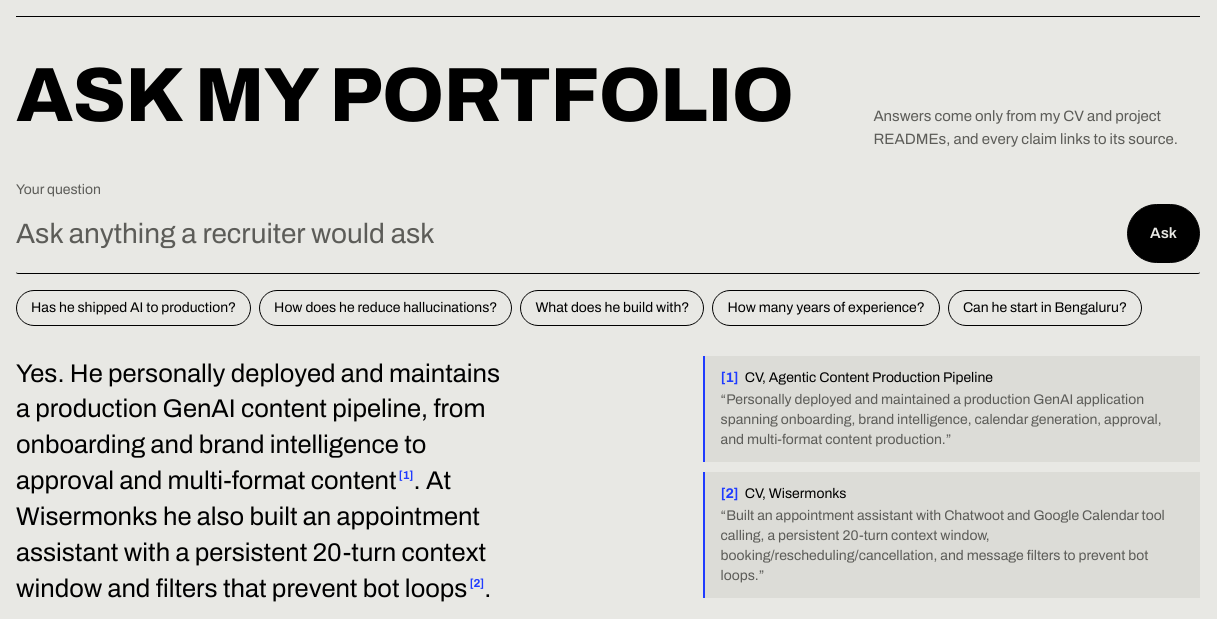
it: Ask my portfolio › types the answer and reveals sources only when typing finishes
Type "Where is he based?" into the field labelled "Your question".
click(567, 233); type("Where is he based?")  # box x1=16 y1=204 x2=1117 y2=263
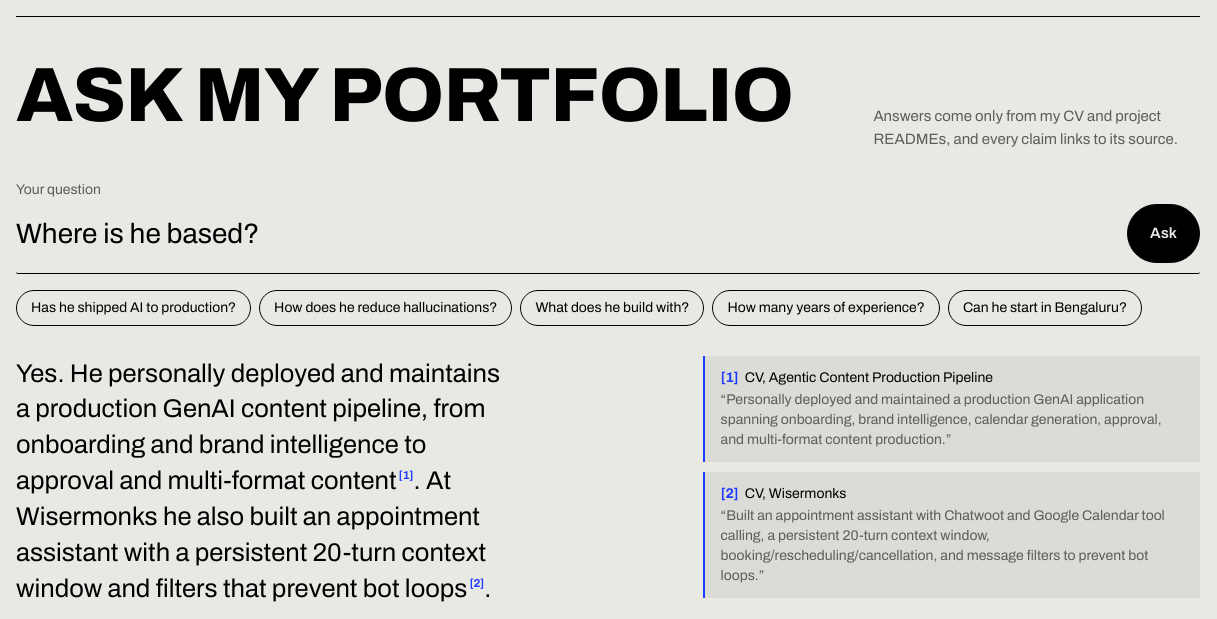
Click the button "Ask".
click(1164, 233)  # box x1=1127 y1=204 x2=1200 y2=263
Wait 5000 ms
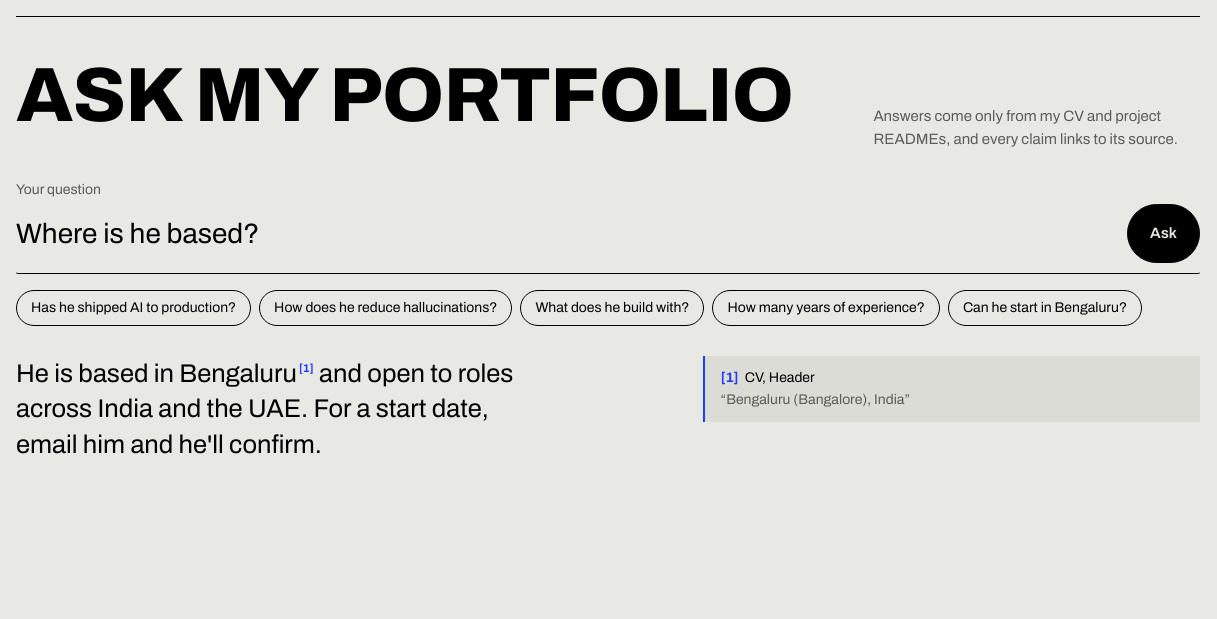
Now the element with test id "ask-answer" shows "He is based in Bengaluru[1] and open to roles across India and the UAE. For a start date, email him and he'll confirm.", box x1=16 y1=356 x2=515 y2=476
Now the number of list items is 1, box x1=703 y1=356 x2=1200 y2=422
